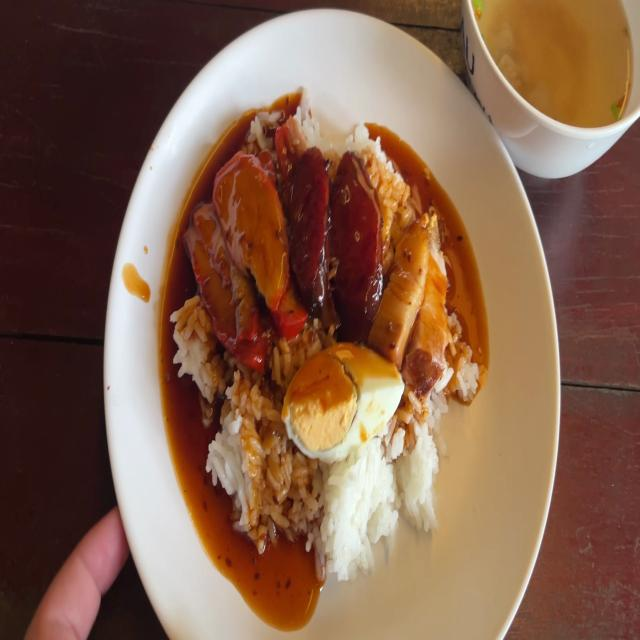red_pork_and_crispy_pork: (286, 347, 407, 466)
stir_fried_basil: (297, 150, 375, 327), (336, 165, 374, 318), (293, 148, 328, 291)
